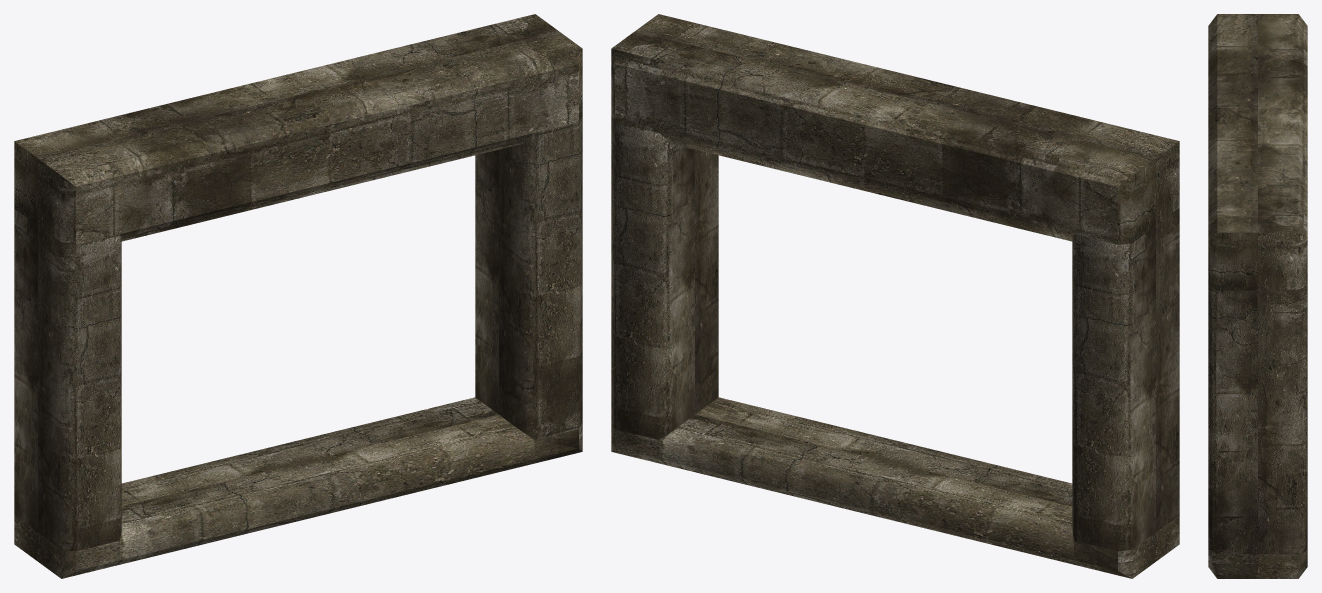
The model's file is door_frame_large_worn_amfp.dae.
3 renders of one model, left to right at view 1: azimuth 30°, elevation 25°; view 2: azimuth 150°, elevation 25°; view 3: azimuth 270°, elevation 25°, orthographic. The views are drawn at different scales.
Parts seen in each view (by area): view 1: polySurface130; view 2: polySurface130; view 3: polySurface130.
Boxes of the visible parts, left/top/right/bottom form: polySurface130: left=14, top=14, right=582, bottom=578; polySurface130: left=611, top=14, right=1179, bottom=578; polySurface130: left=1208, top=14, right=1307, bottom=578.
Bounding box in the file's own units: 5.21 × 3.85 × 1.
